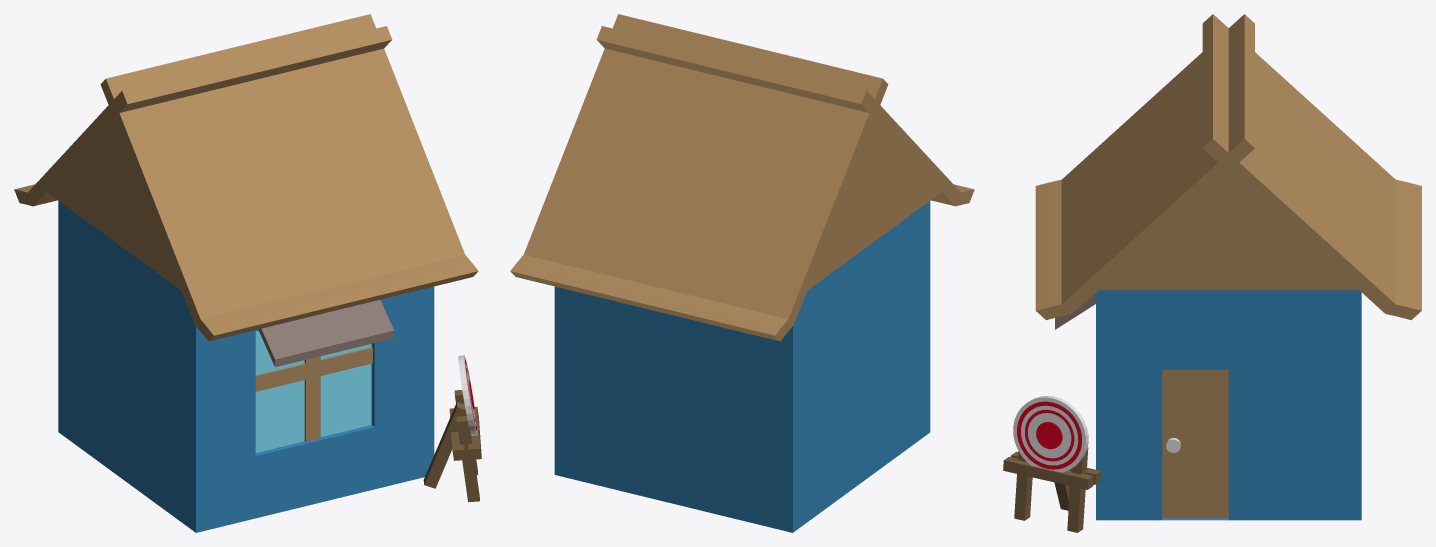
File: casa vila azul.fbx
3 views of the same model, side by side, from view 1: azimuth 30°, elevation 25°; view 2: azimuth 150°, elevation 25°; view 3: azimuth 270°, elevation 25° (orthographic). The views are drawn at different scales.
Parts seen in each view (by area): view 1: Cube.001, Cube, Cube.002, Cube.005, Cube.006, Cube.003; view 2: Cube.001, Cube; view 3: Cube.001, Cube, Cube.004, Cube.006.
Part boxes in pixels (box(x1,y1,x2,y2)): Cube.001: box(14, 14, 478, 341); Cube: box(58, 201, 434, 532); Cube.002: box(255, 331, 371, 452); Cube.005: box(258, 299, 394, 367); Cube.006: box(423, 355, 481, 502); Cube.003: box(255, 347, 372, 441); Cube.001: box(510, 14, 974, 341); Cube: box(554, 201, 930, 532); Cube.001: box(1035, 14, 1421, 320); Cube: box(1096, 290, 1361, 520); Cube.004: box(1162, 369, 1228, 518); Cube.006: box(1003, 396, 1100, 532).
Size of the model in its own units: 220 by 290 by 284.
